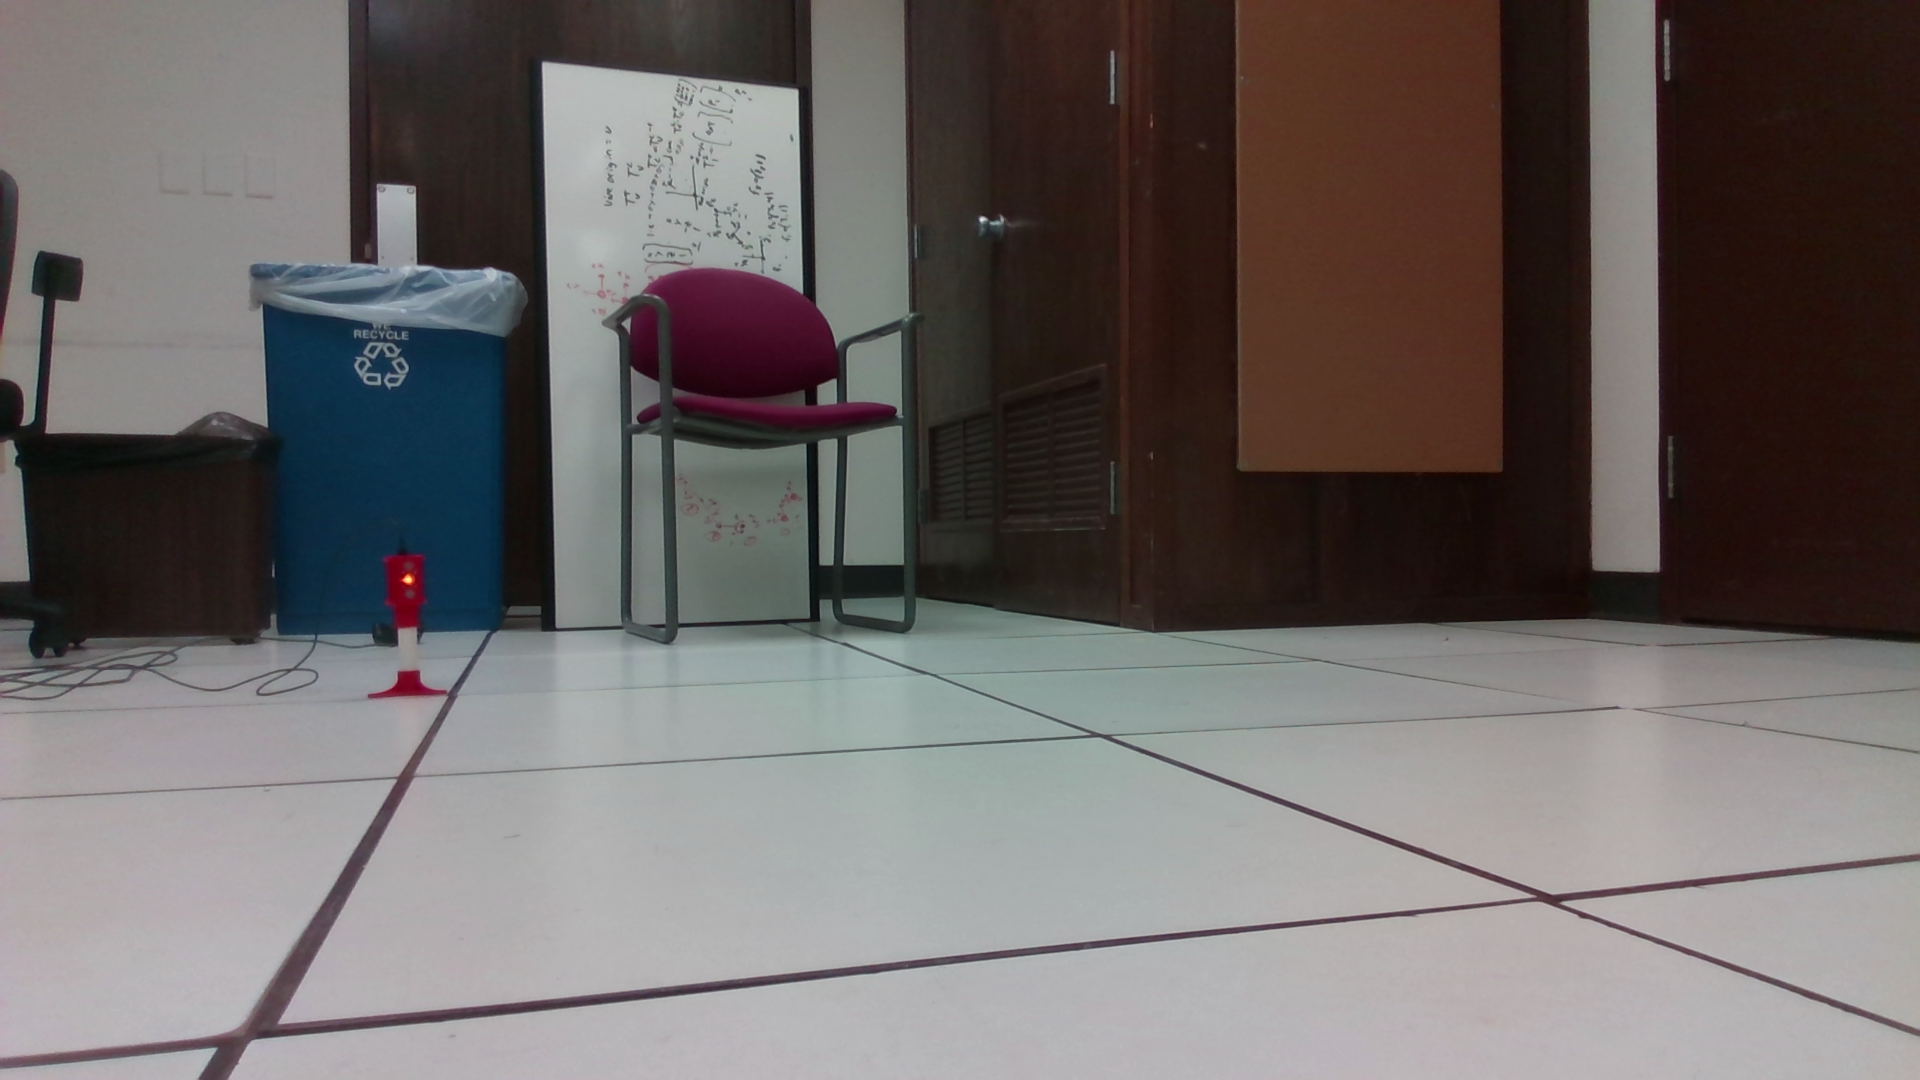stoplight: (386, 556, 427, 632)
